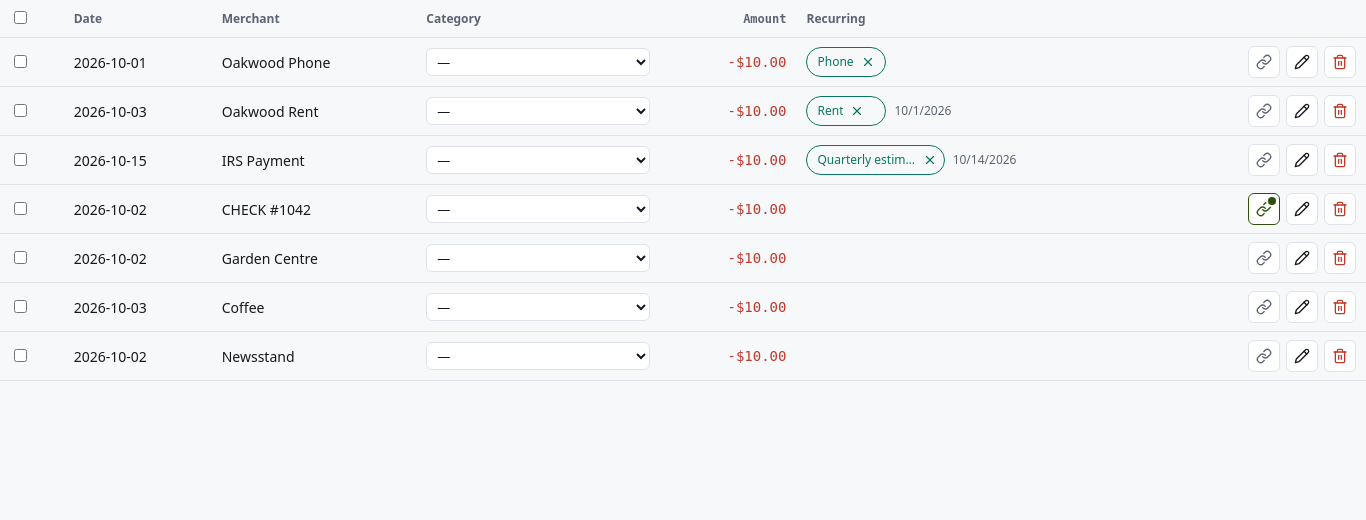
Test case: recurring column and picker on the Transactions page › the Link button › has one picker at a time
Click the button named "Link Coffee to a recurring item" at (1264, 307), box [1248,291,1280,323]
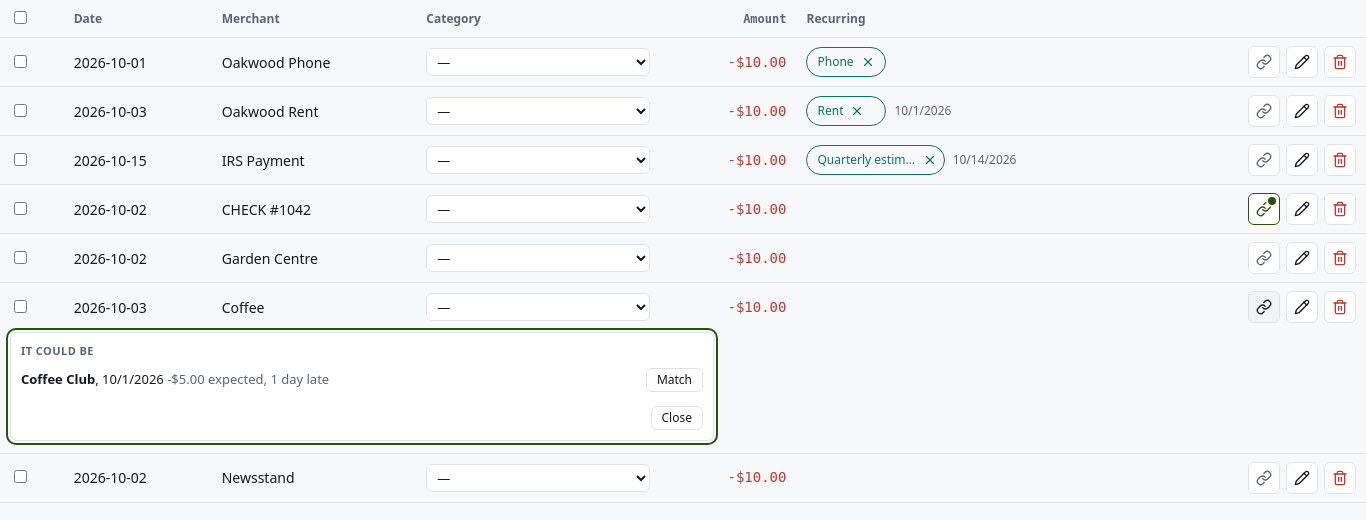
Click the button named "Link Newsstand to a recurring item" at (1264, 478), box [1248,462,1280,494]
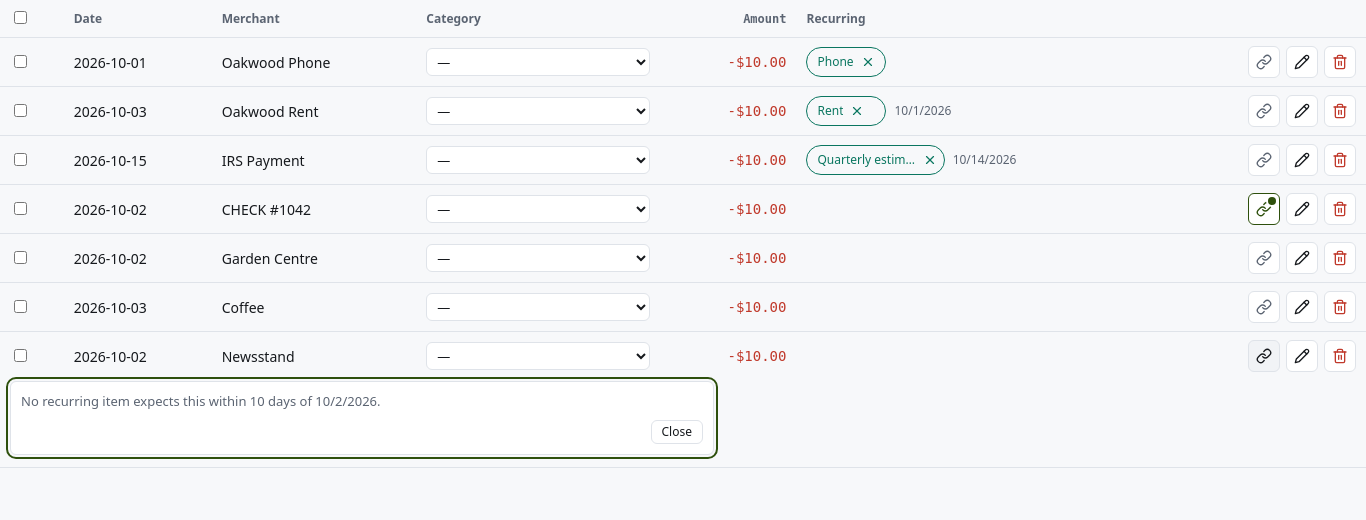
Expected: the number of elements named "Recurring items for" is 1, [10,381,714,454]
